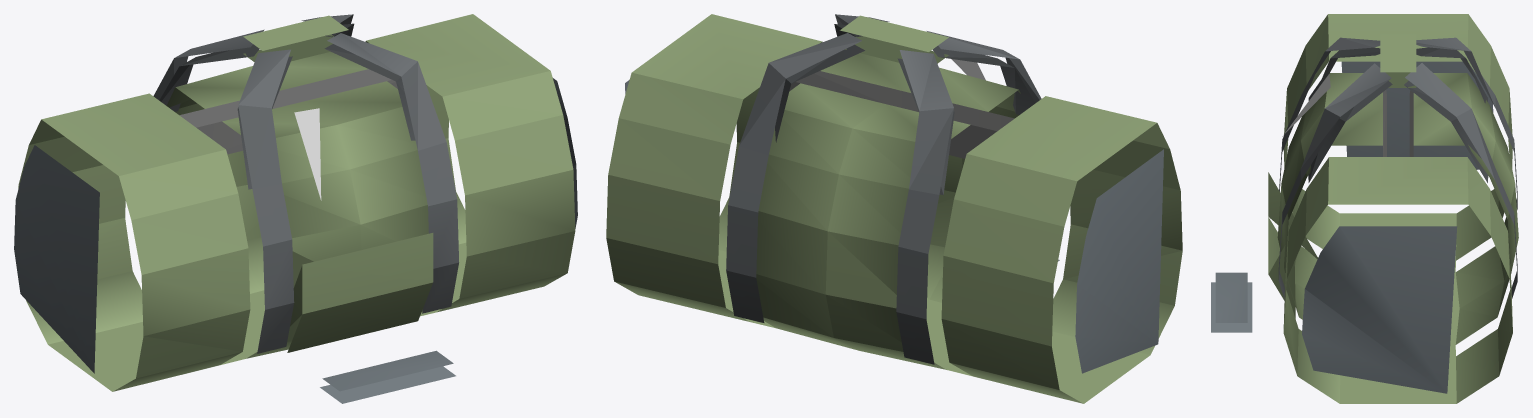
File: kitbag.lod.glb
The picture shows the model from 3 angles, left to right: view 1: azimuth 30°, elevation 25°; view 2: azimuth 150°, elevation 25°; view 3: azimuth 270°, elevation 25°; orthographic projection. The views are drawn at different scales.
Visible parts, largest first — view 1: kitbag; view 2: kitbag; view 3: kitbag.
Boxes of the visible parts, left/top/right/bottom form: kitbag: left=14, top=14, right=577, bottom=403; kitbag: left=606, top=14, right=1182, bottom=403; kitbag: left=1211, top=14, right=1518, bottom=403.
Bounding box in the file's own units: 0.936 × 0.5522 × 0.6032.
